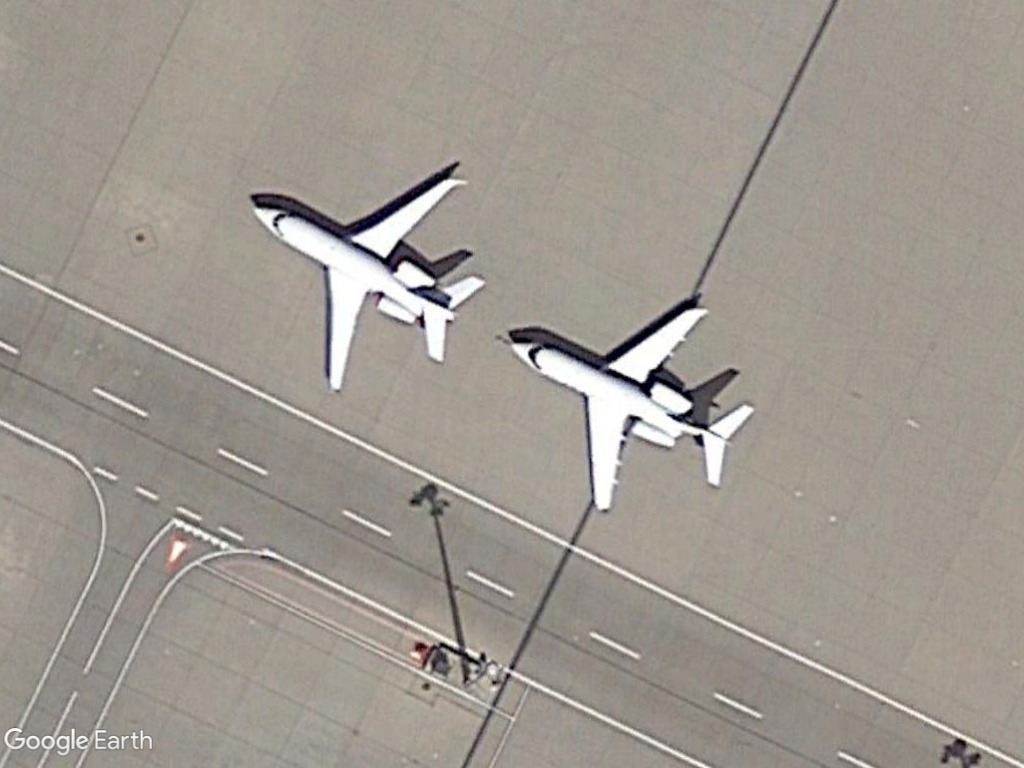chartered: (250, 171, 490, 396), (505, 300, 754, 514)
